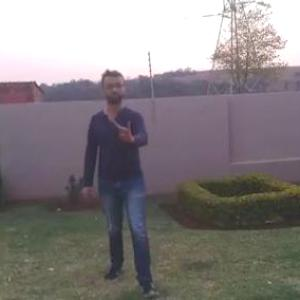takeoff-hand: (109, 106, 139, 142)
